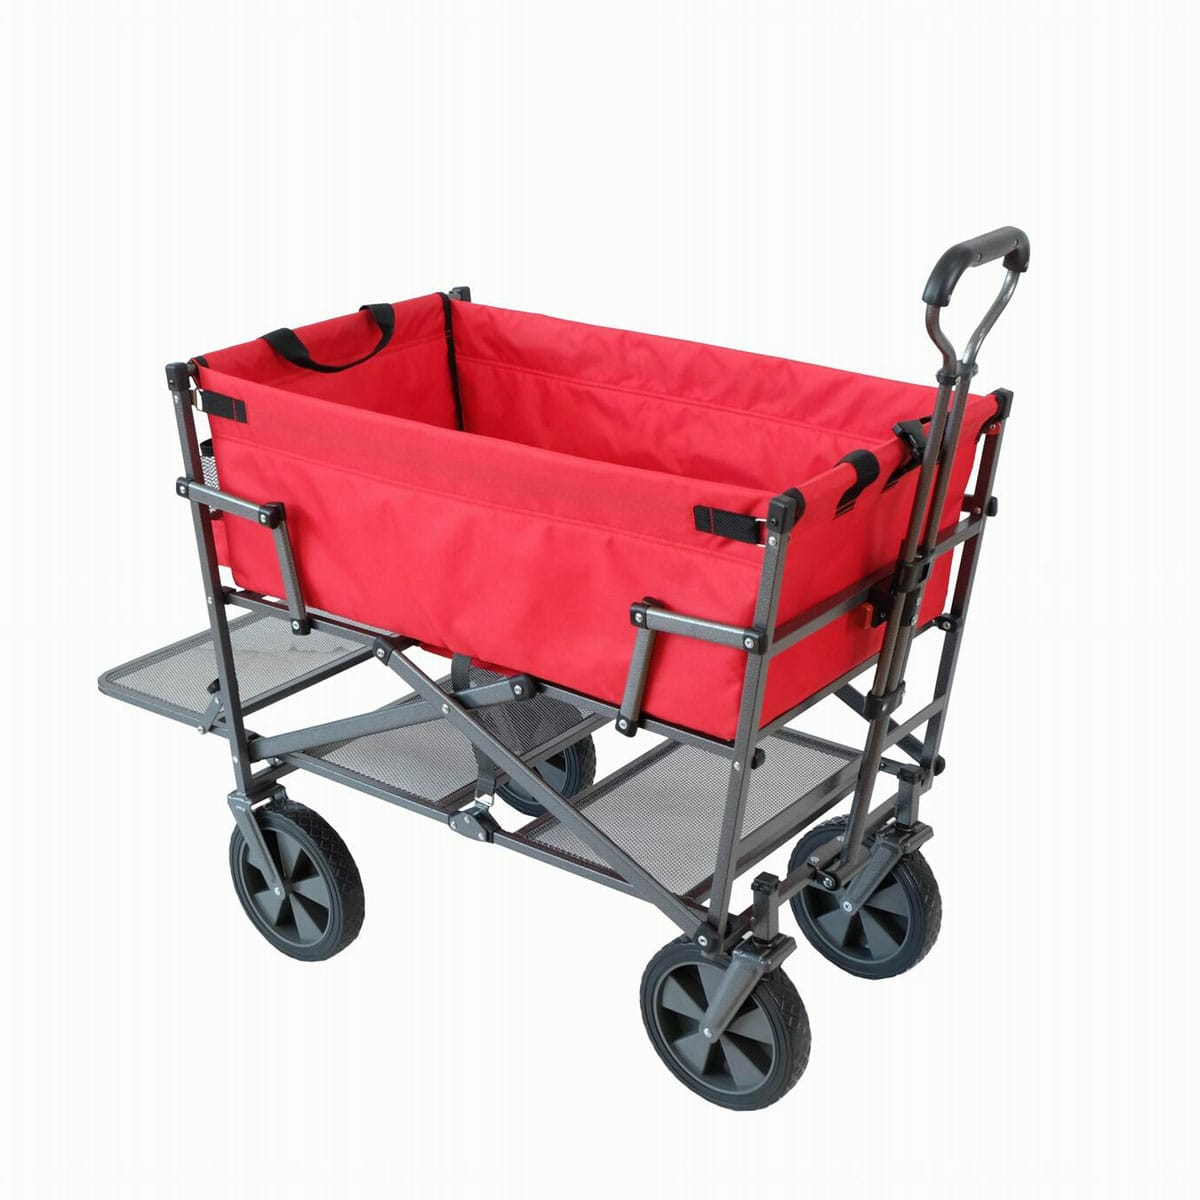Carts: (93, 225, 1027, 1114)
